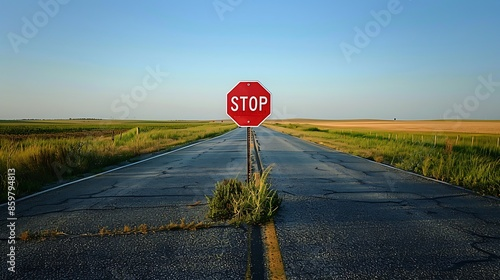StopSign: (225, 80, 272, 126)
